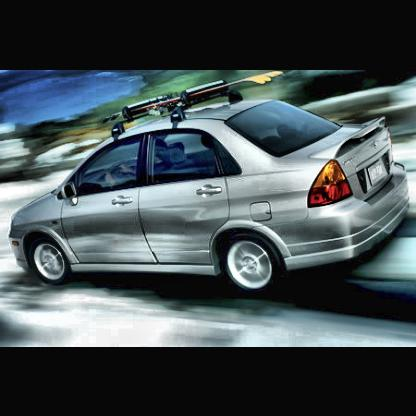Suzuki Aerio Sedan 2007: (10, 81, 412, 301)
